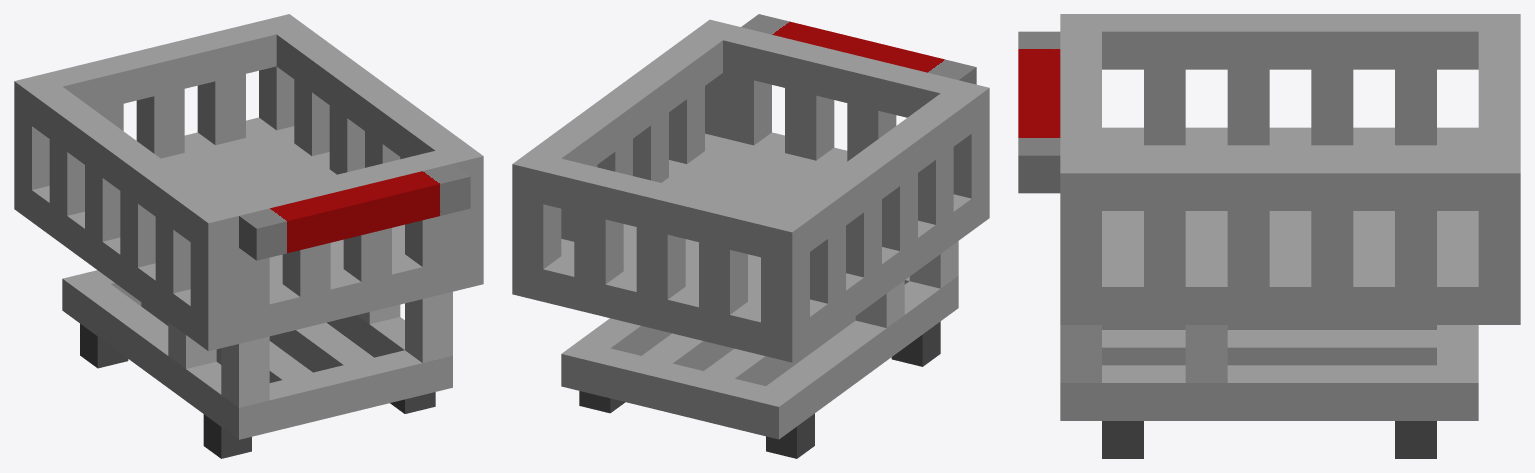
File: obj_cart1.fbx
The picture shows the model from 3 angles, left to right: view 1: azimuth 30°, elevation 25°; view 2: azimuth 150°, elevation 25°; view 3: azimuth 270°, elevation 25°; orthographic projection. The views are drawn at different scales.
Parts seen in each view (by area): view 1: obj_cart1; view 2: obj_cart1; view 3: obj_cart1.
Boxes of the visible parts, box(x1,y1,x2,y2) form: obj_cart1: box(14, 14, 483, 458); obj_cart1: box(512, 14, 989, 458); obj_cart1: box(1018, 14, 1520, 458).
Bounding box in the file's own units: 0.9 × 1.2 × 0.8.
1 material, 1 textured.
